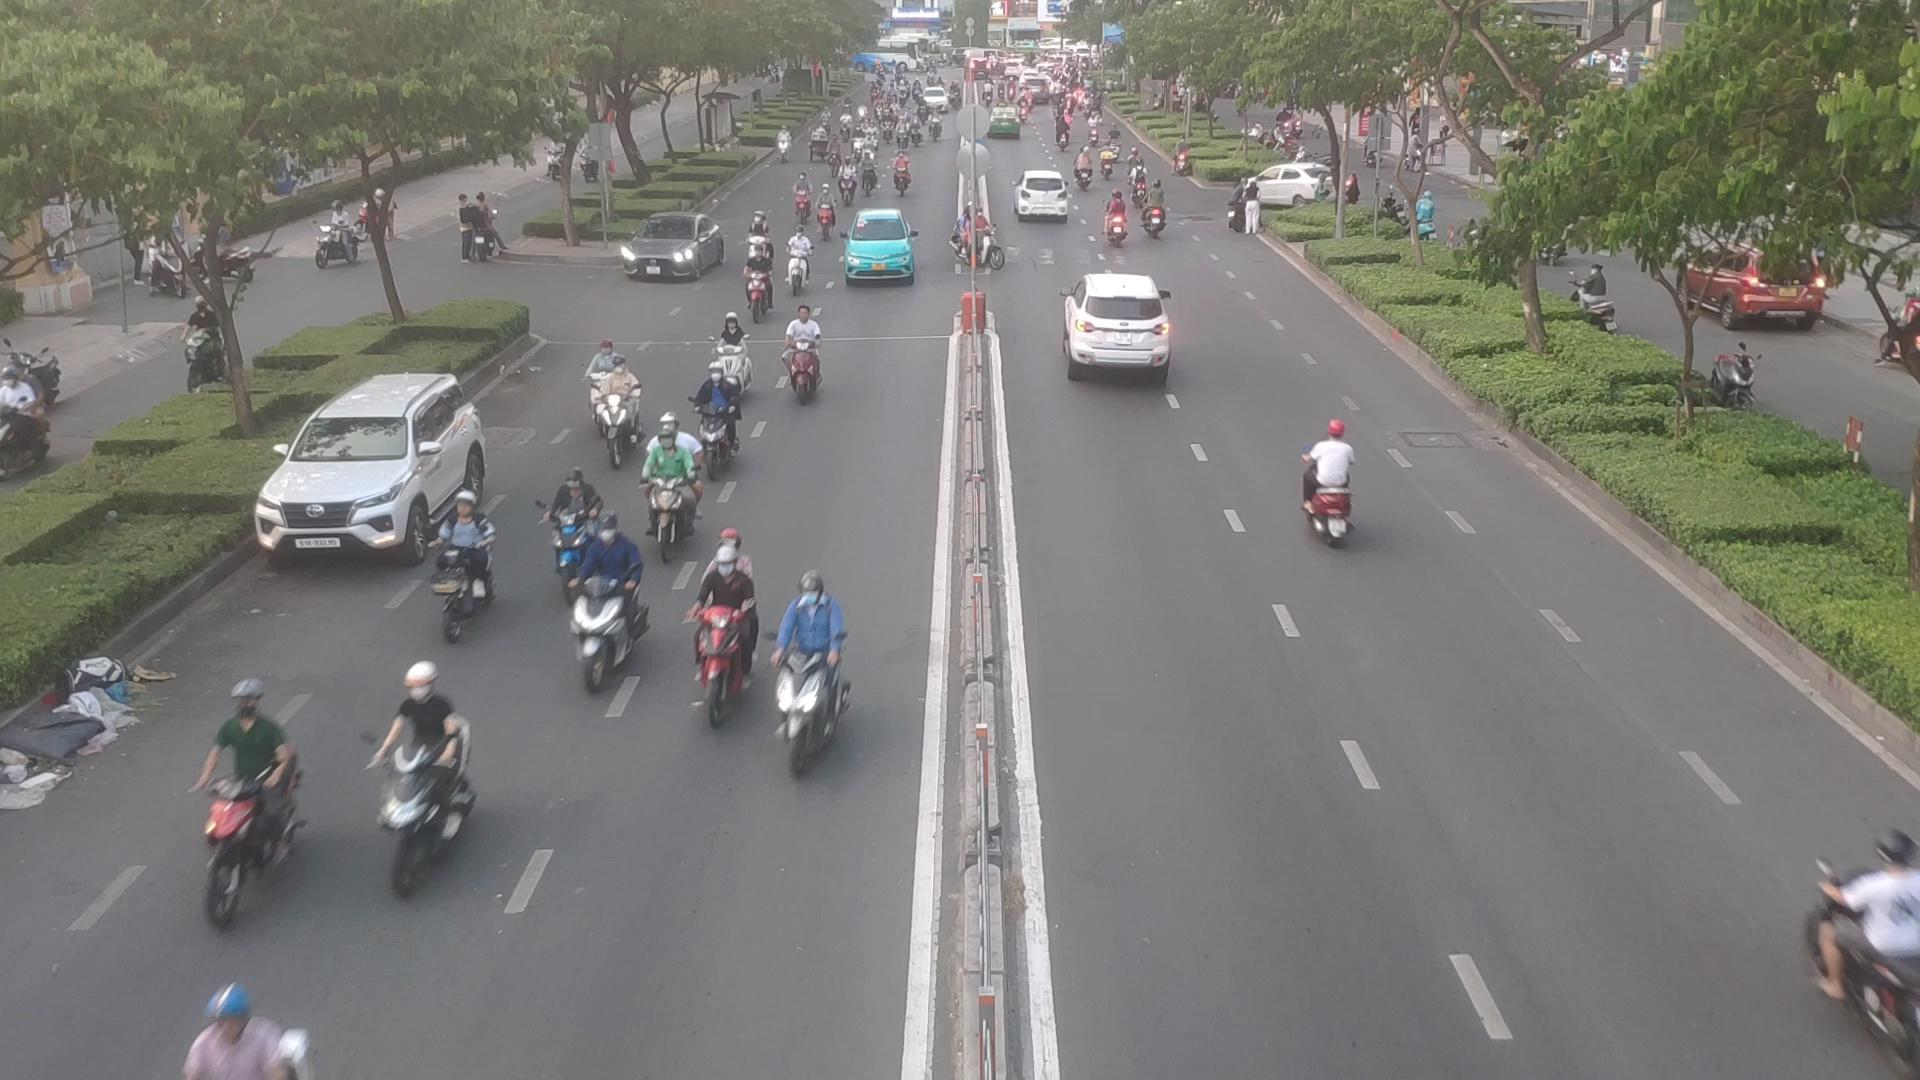car: (258, 376, 495, 567), (1063, 273, 1174, 368), (618, 212, 731, 280), (839, 212, 913, 289), (1241, 161, 1336, 215), (1015, 169, 1073, 220)
motorbike: (1759, 820, 1920, 1052), (196, 665, 309, 928), (376, 669, 475, 919), (574, 529, 651, 702), (690, 547, 760, 727), (771, 591, 849, 741), (427, 489, 502, 637), (1291, 407, 1364, 560), (529, 487, 607, 595), (595, 356, 665, 473), (644, 425, 698, 555), (695, 367, 742, 475), (709, 324, 752, 407), (953, 216, 998, 276), (579, 336, 612, 405), (796, 307, 825, 382), (748, 208, 779, 276), (1096, 190, 1130, 251), (742, 245, 770, 316), (783, 235, 814, 295), (1146, 181, 1171, 243), (812, 189, 840, 241), (1126, 160, 1151, 218), (789, 169, 814, 225), (835, 160, 856, 206), (893, 157, 913, 200), (861, 157, 876, 200)
